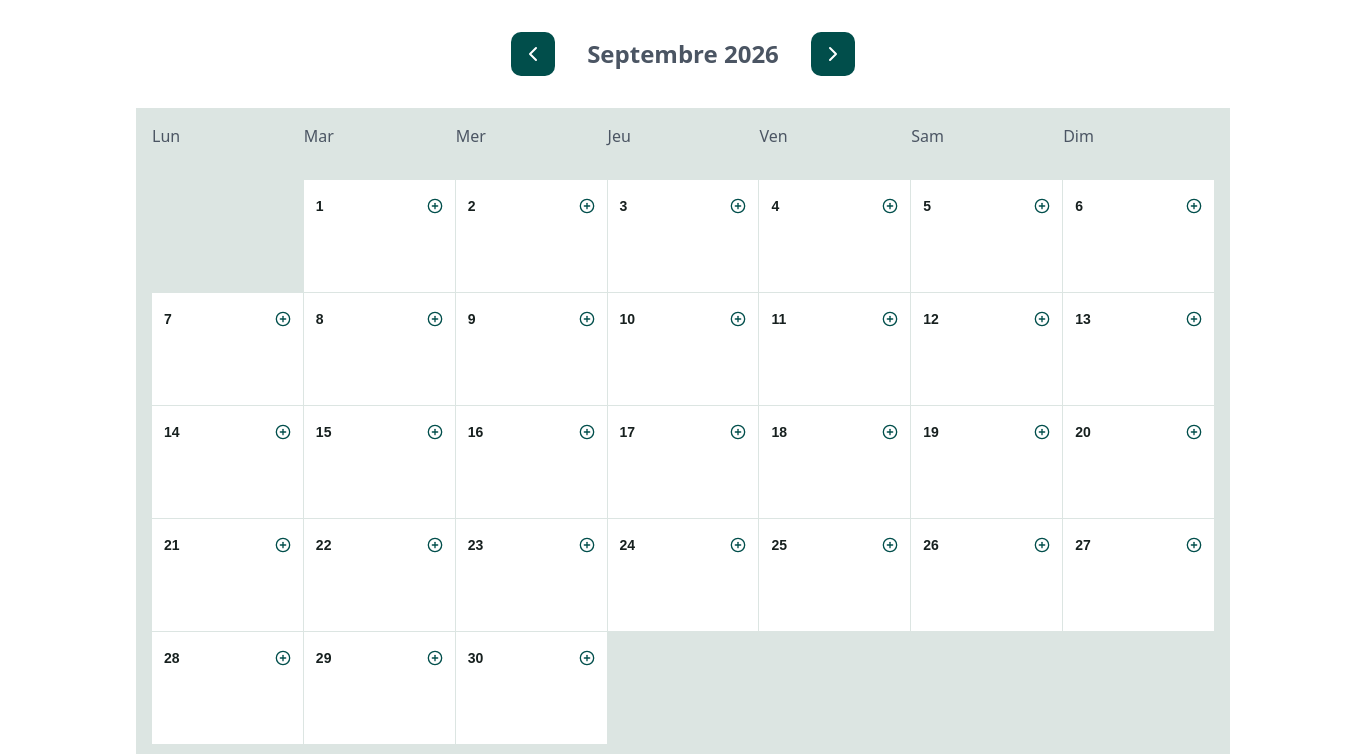
Scenario: Calendar › navigates to the previous month
Expected: the heading "septembre 2026" is shown, 587,36 -> 779,72
What coordinates should you click on to do the following:
click the button named "Mois précédent"
I would click on:
 (533, 54)
Its box is 511,32 -> 555,76.
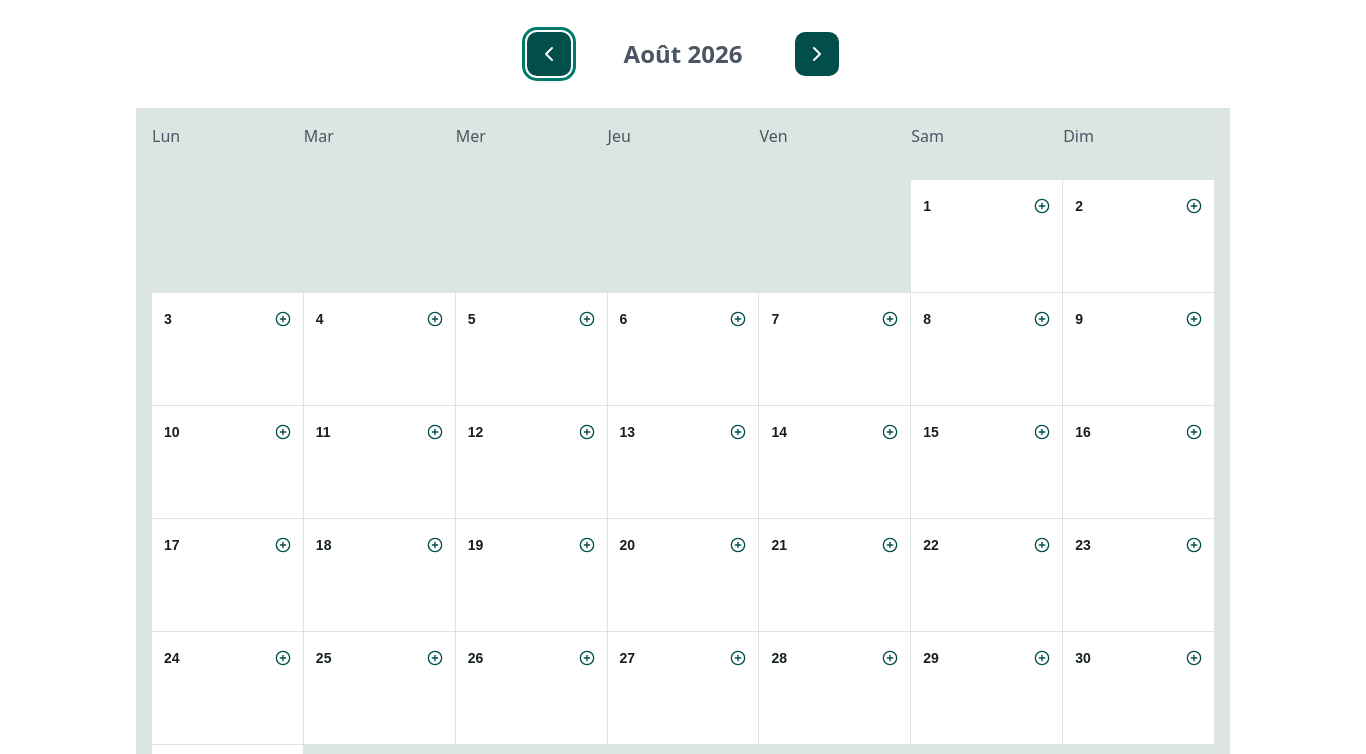
Result: the heading "août 2026" is shown at 624,37 -> 742,70
